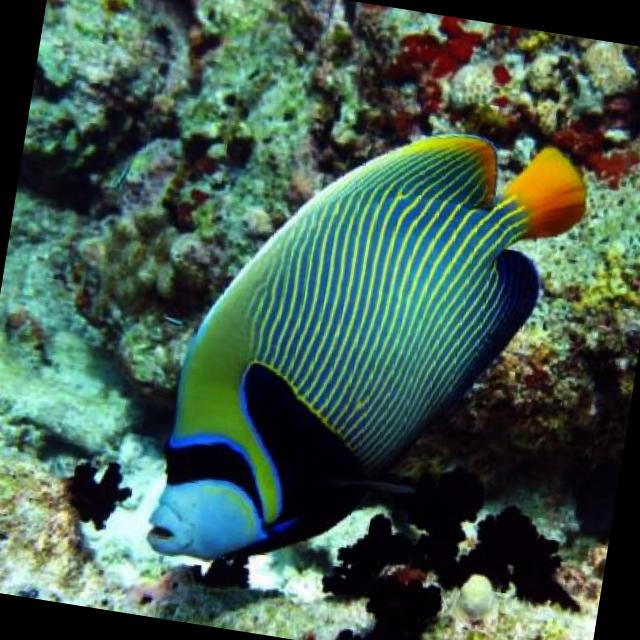AngelFish: (150, 91, 594, 622)
